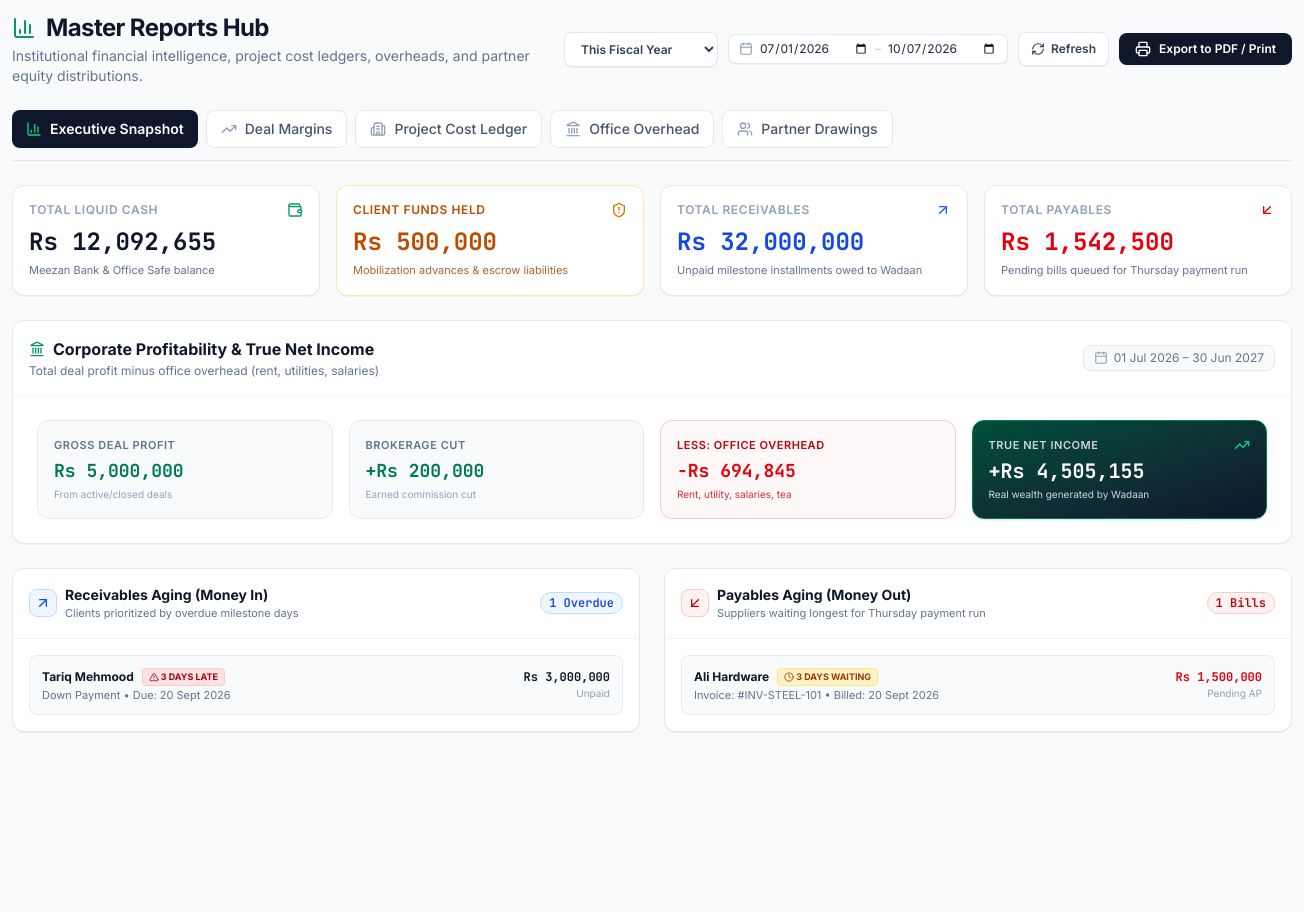
Test: Master Reports Hub Page (Screen 10) › switches to Project Cost Ledger tab and renders line items
Click the button with test id "tab-project-costs". click: (449, 129)
box: [355,110,542,148]
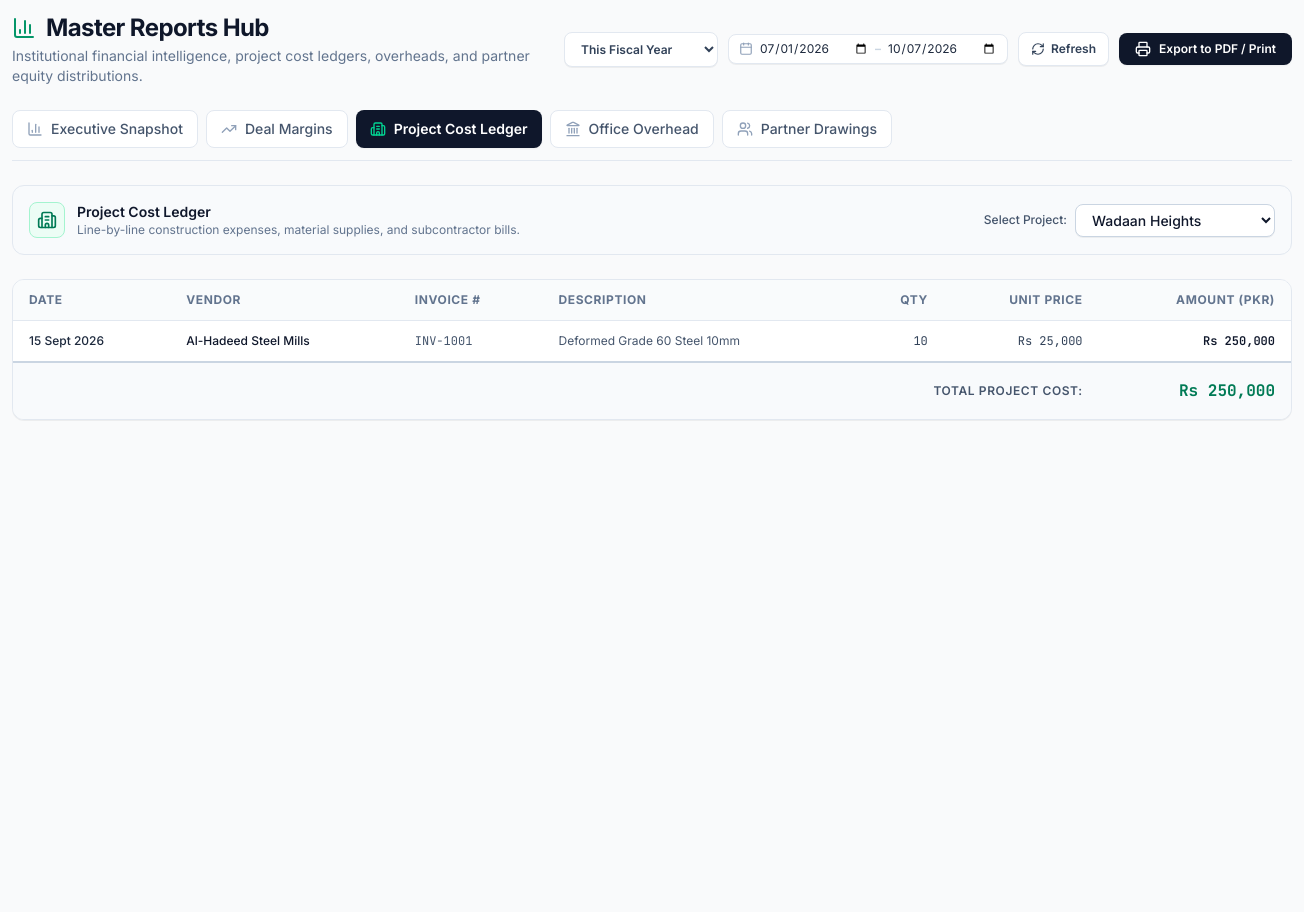
Check: the element with test id "project-cost-ledger" is shown, box [12,185,1292,420]
Check: the text "Al-Hadeed Steel Mills" is shown, box [170,320,399,362]
Check: the text "Deformed Grade 60 Steel 10mm" is shown, box [542,320,856,362]
